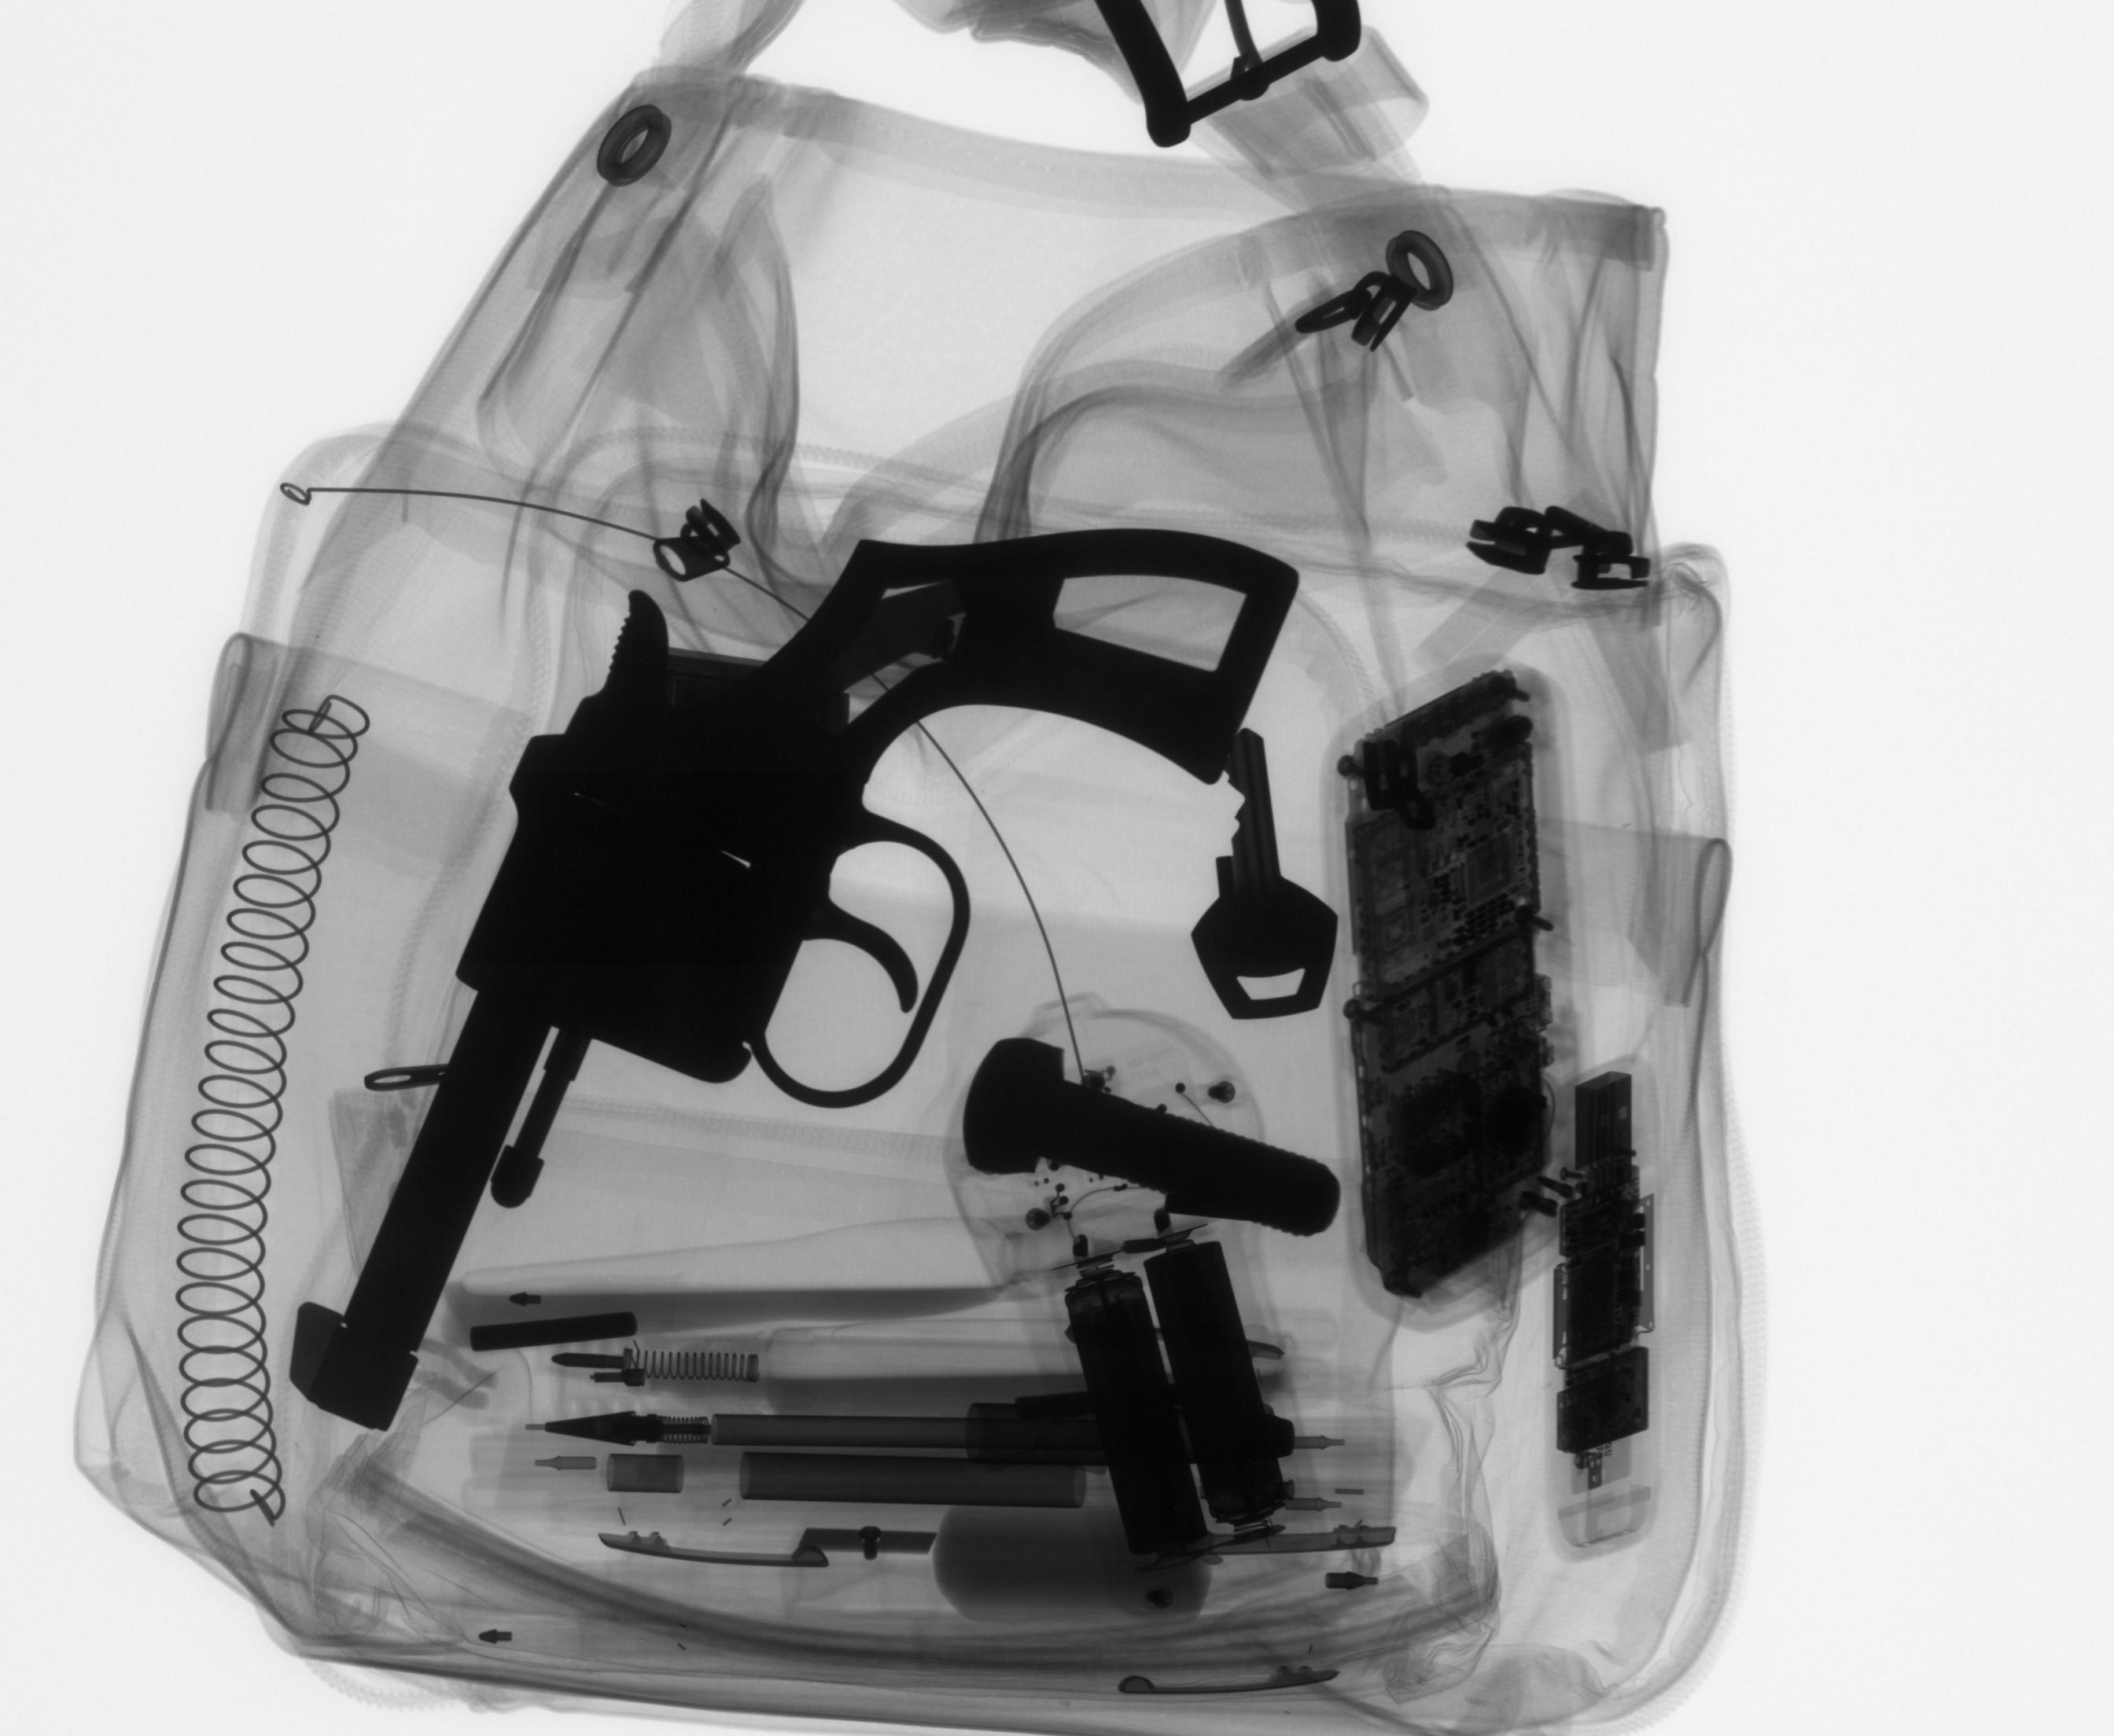Handgun: (279, 518, 1308, 1443)
